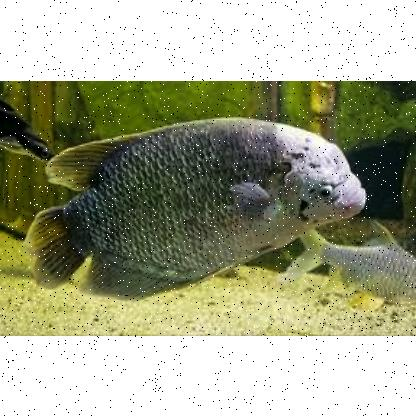gurame: (28, 116, 364, 300), (300, 230, 416, 309)
